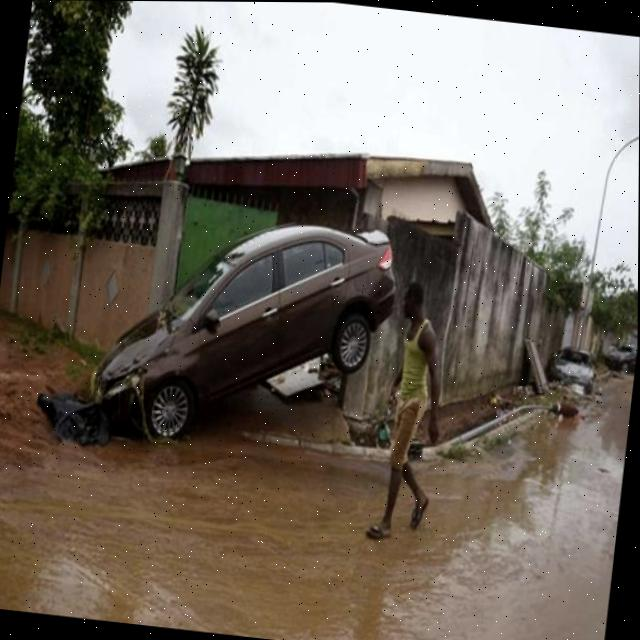civilian: (359, 268, 463, 565)
